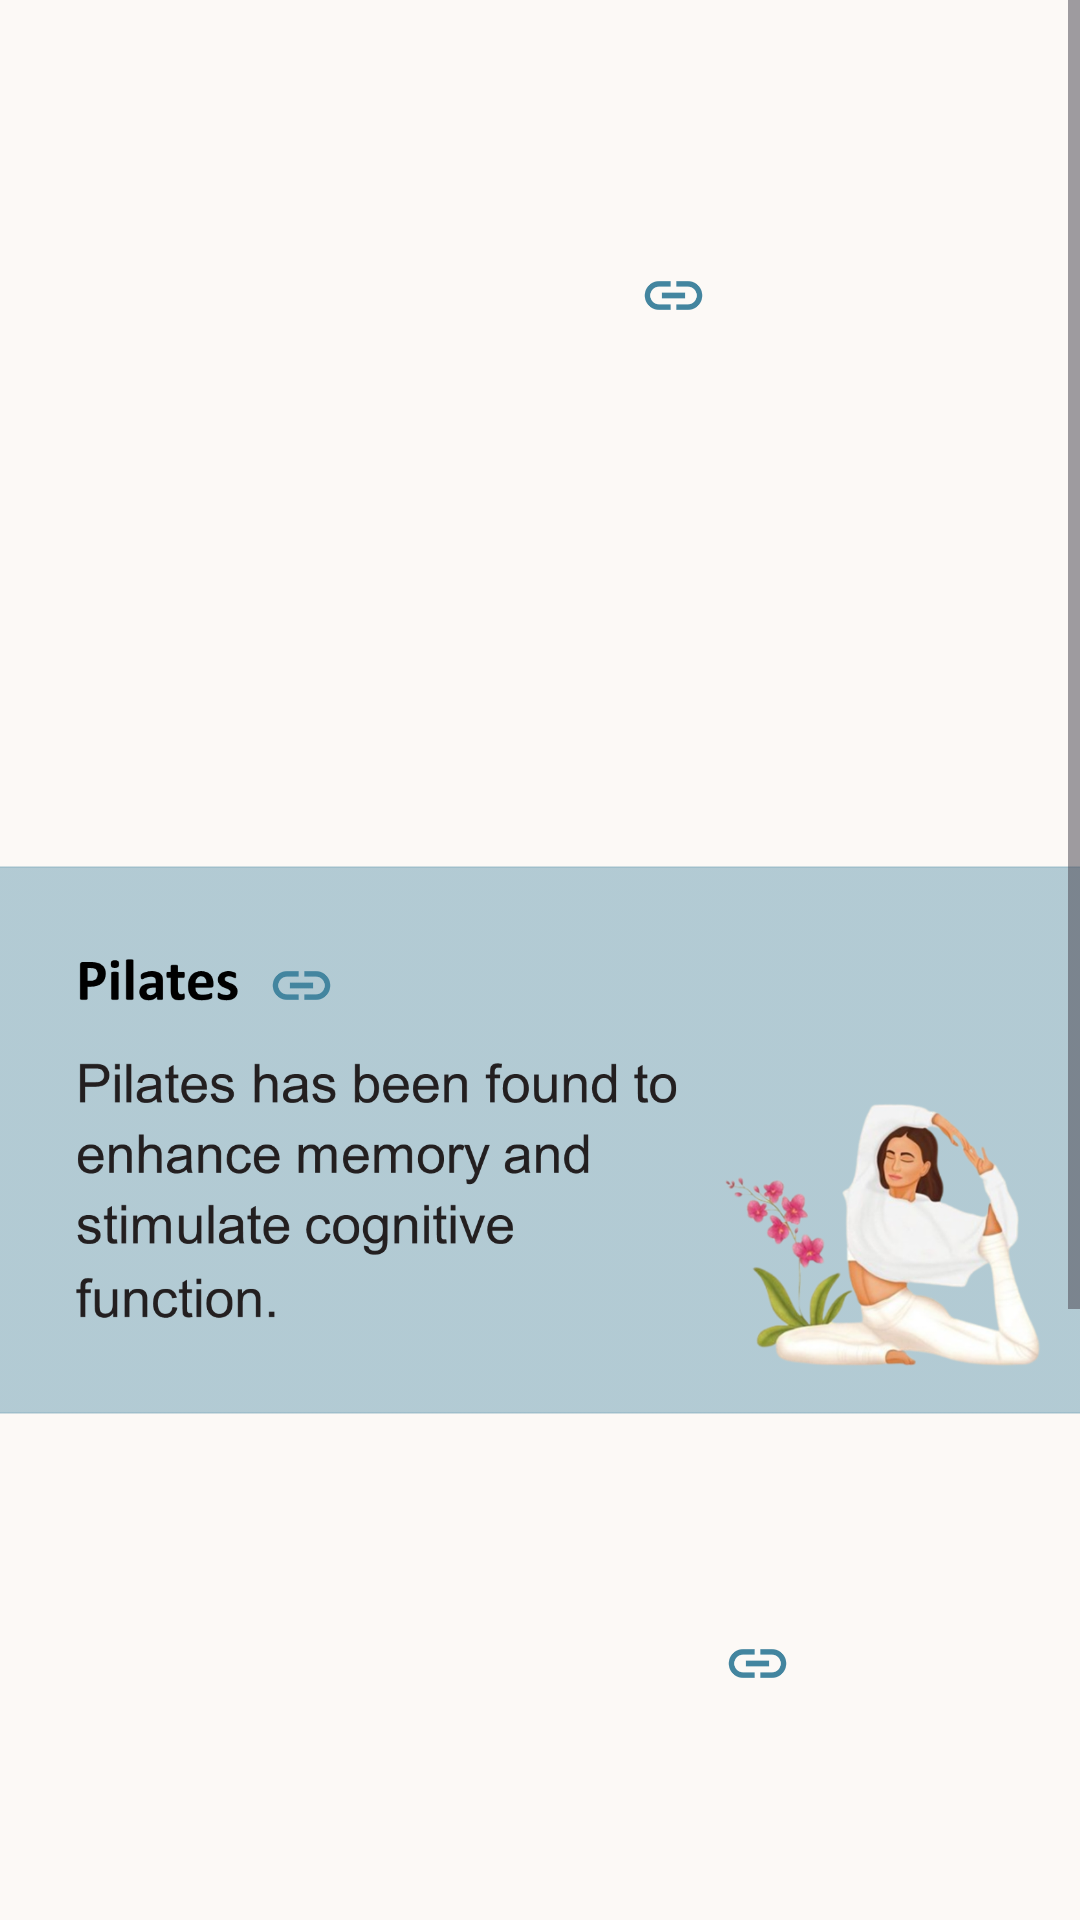

Icon click points for this 1080 x 1920 phone screenshot, format [x,y]:
link: [673,295], [301,985], [757,1663]
